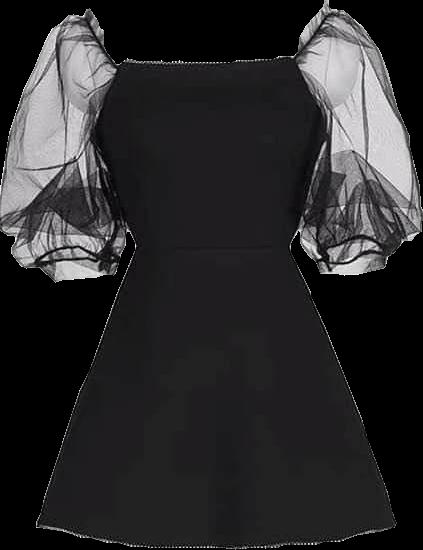Bodice: (95, 56, 324, 251)
Hemline: (34, 520, 399, 549)
Neckline: (118, 53, 295, 65)
Skirt: (35, 246, 396, 548)
Sleeve: (0, 8, 135, 282), (292, 0, 422, 275)
Sleeveline: (292, 7, 331, 124), (87, 9, 122, 132)
Waistline: (133, 243, 293, 255)
